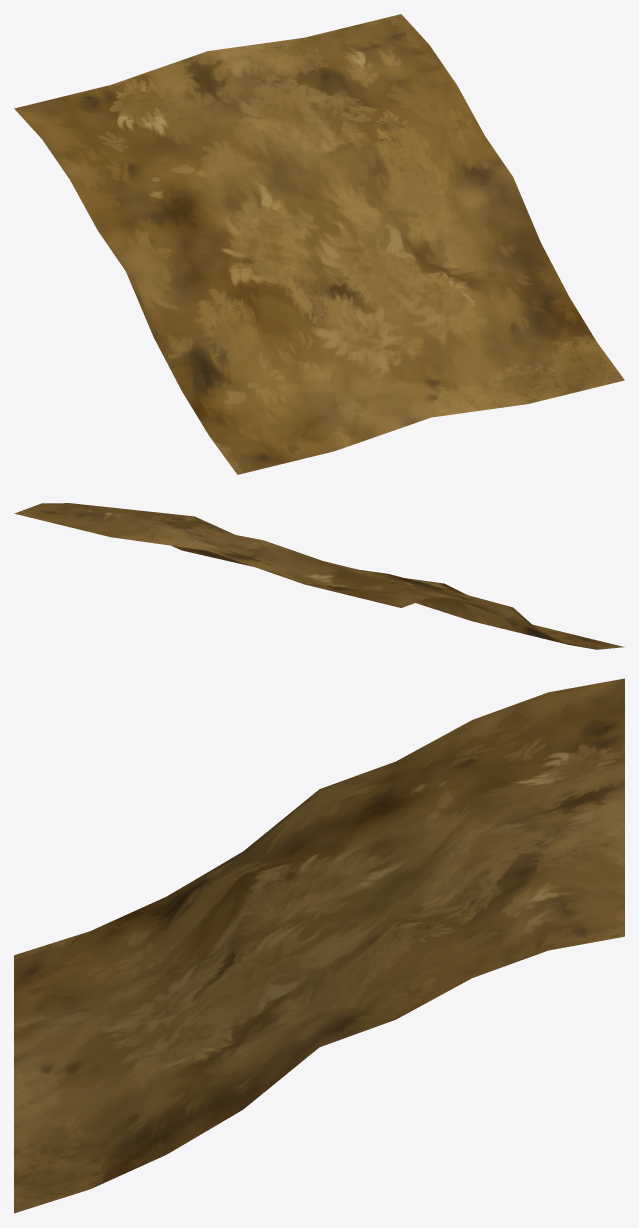
Rendered from Slope_001.fbx.
3 views of the same model, one above another, from view 1: azimuth 30°, elevation 25°; view 2: azimuth 150°, elevation 25°; view 3: azimuth 270°, elevation 25° (orthographic). The views are drawn at different scales.
Visible parts, largest first — view 1: Slope_001; view 2: Slope_001; view 3: Slope_001.
Part boxes in pixels (bbox=[...]): Slope_001: bbox=[14, 14, 624, 474]; Slope_001: bbox=[14, 503, 624, 649]; Slope_001: bbox=[14, 678, 624, 1213].
Size of the model in its own units: 10 by 5.25 by 10.
1 material, 1 textured.
